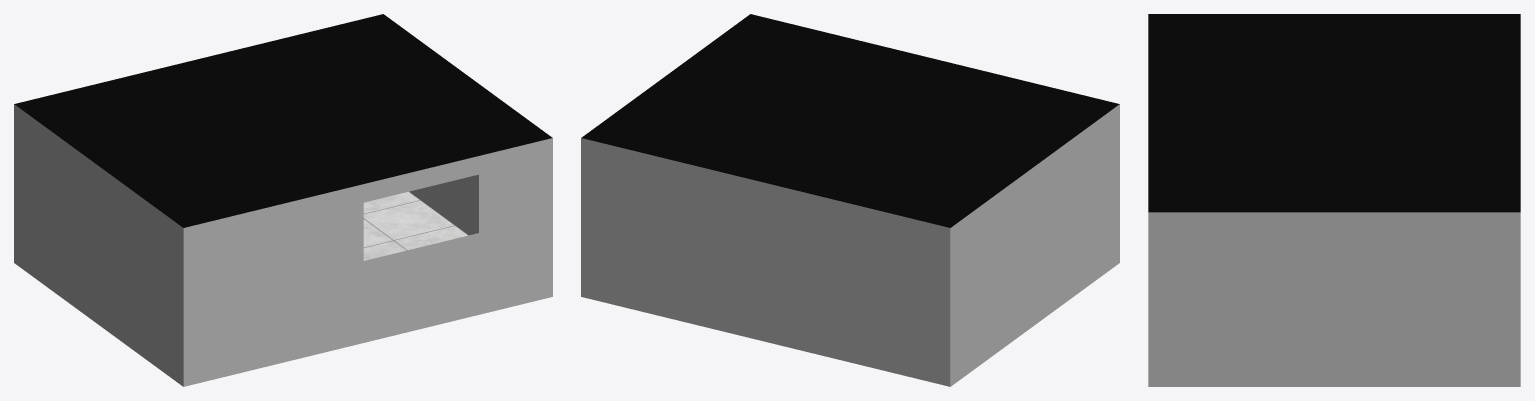
The model's file is SampleRoom.obj.
3 renders of one model, left to right at view 1: azimuth 30°, elevation 25°; view 2: azimuth 150°, elevation 25°; view 3: azimuth 270°, elevation 25°, orthographic. The views are drawn at different scales.
Visible parts, largest first — view 1: 0.Room_Cube; view 2: 0.Room_Cube; view 3: 0.Room_Cube.
Part boxes in pixels (box(x1,y1,x2,y2)): 0.Room_Cube: box(14, 14, 552, 386); 0.Room_Cube: box(581, 14, 1119, 386); 0.Room_Cube: box(1148, 14, 1520, 386).
Size of the model in its own units: 25.68 by 10.56 by 20.4.
